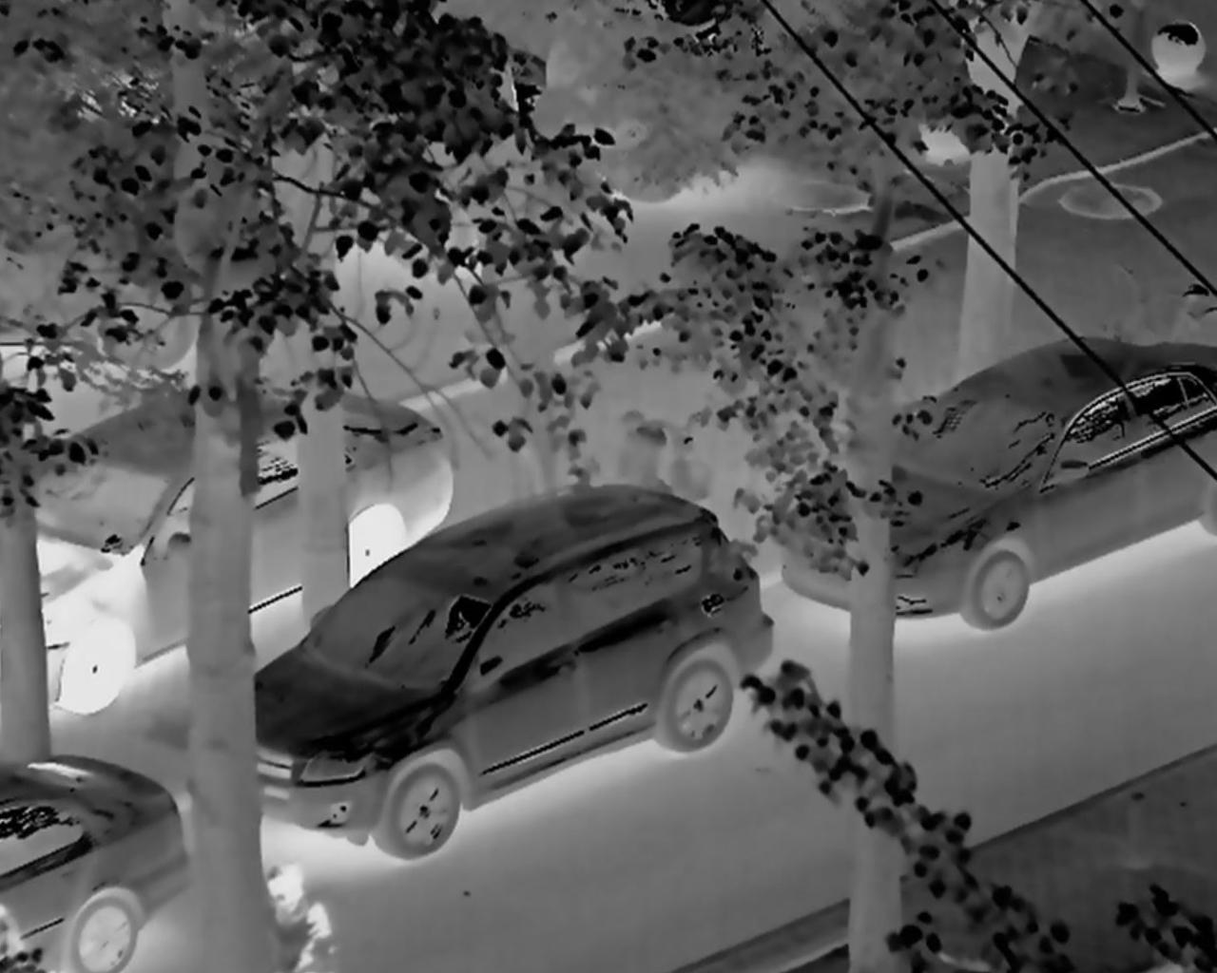person: (252, 845, 341, 973)
